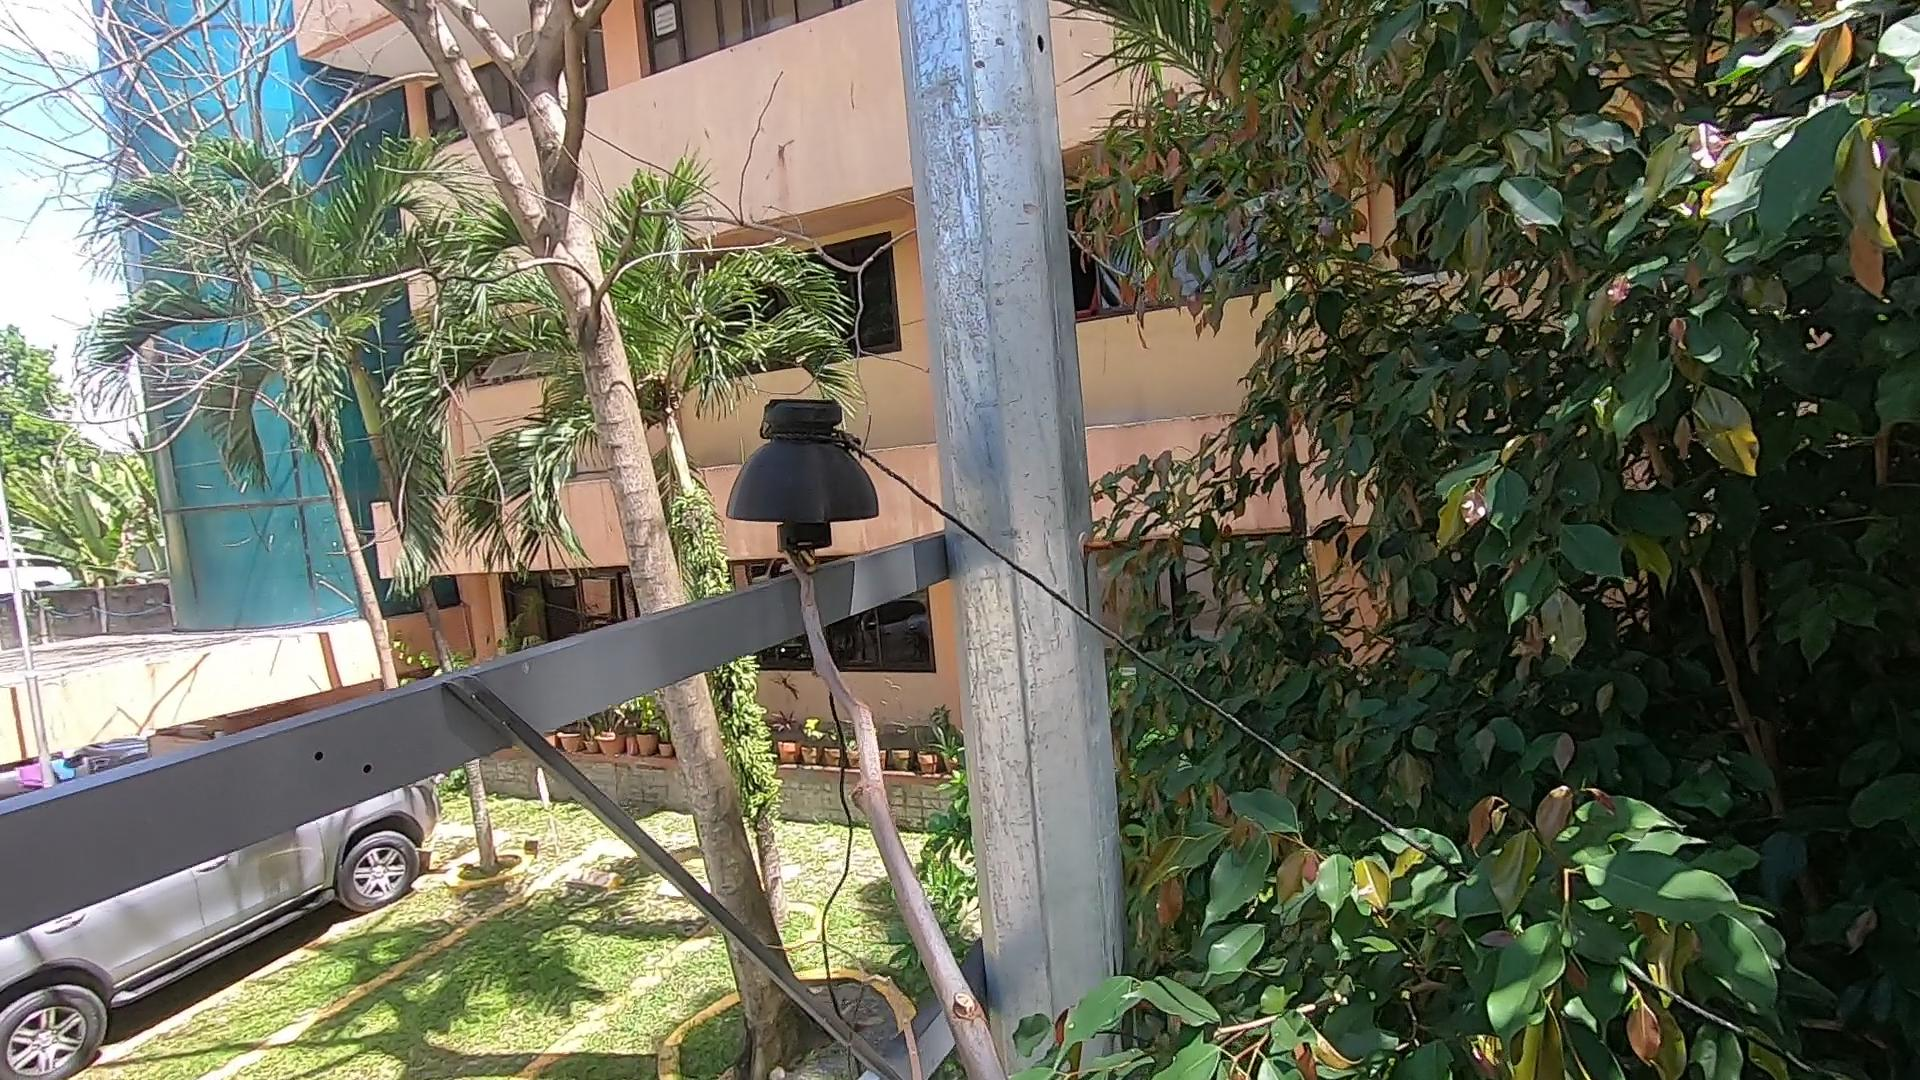branch with leaves: (1001, 945, 1224, 1080)
tree branch: (702, 440, 1033, 1080)
